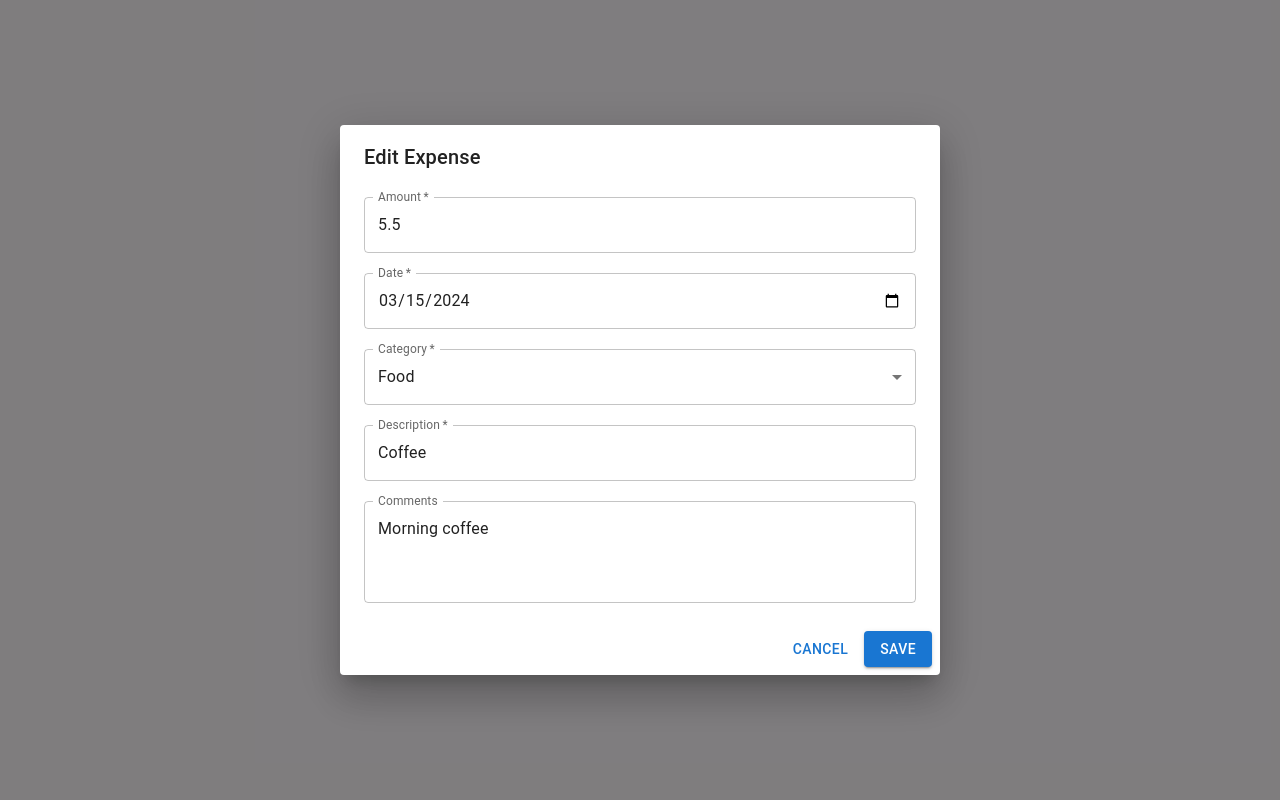
Test: EditExpenseDialog › should show validation error for empty description
Clear the field labelled "Description" at [640, 453], box [364,425,916,481]
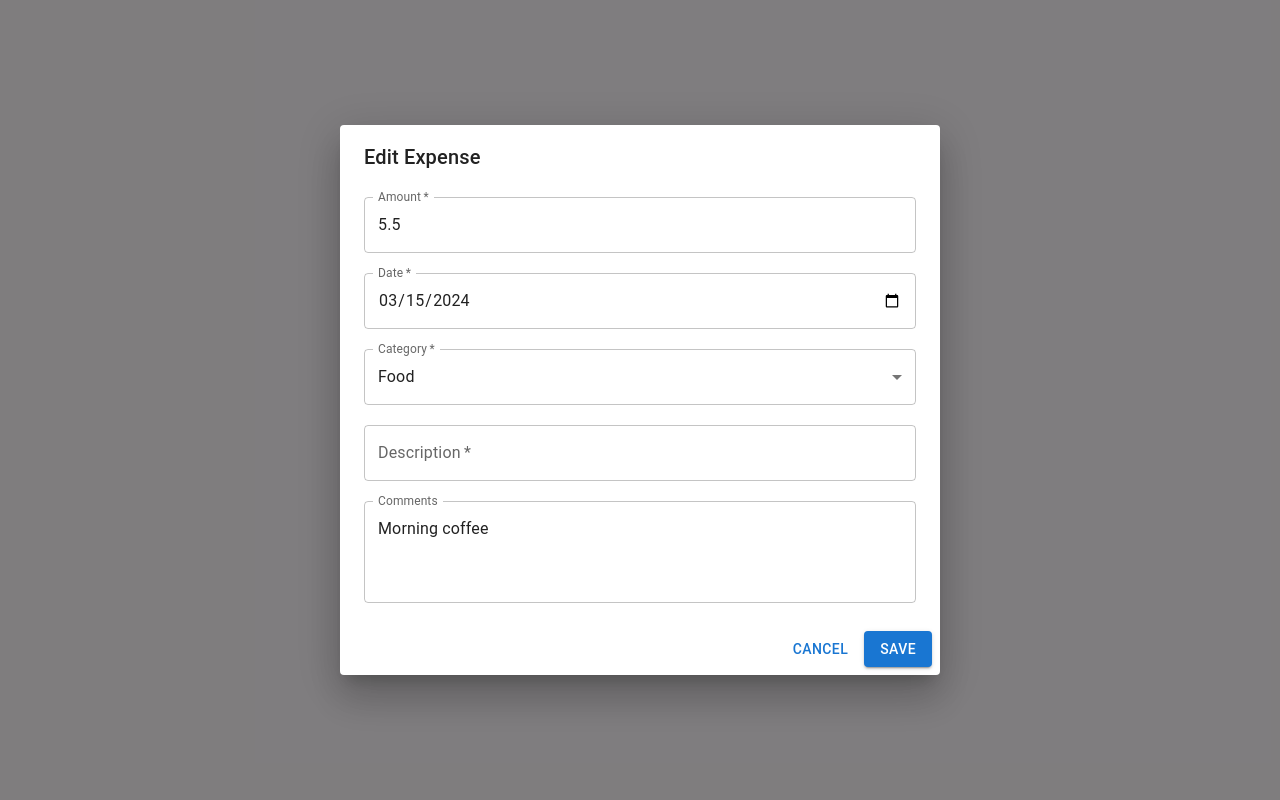
Click the button "Save" at [898, 649], box [864,631,932,667]
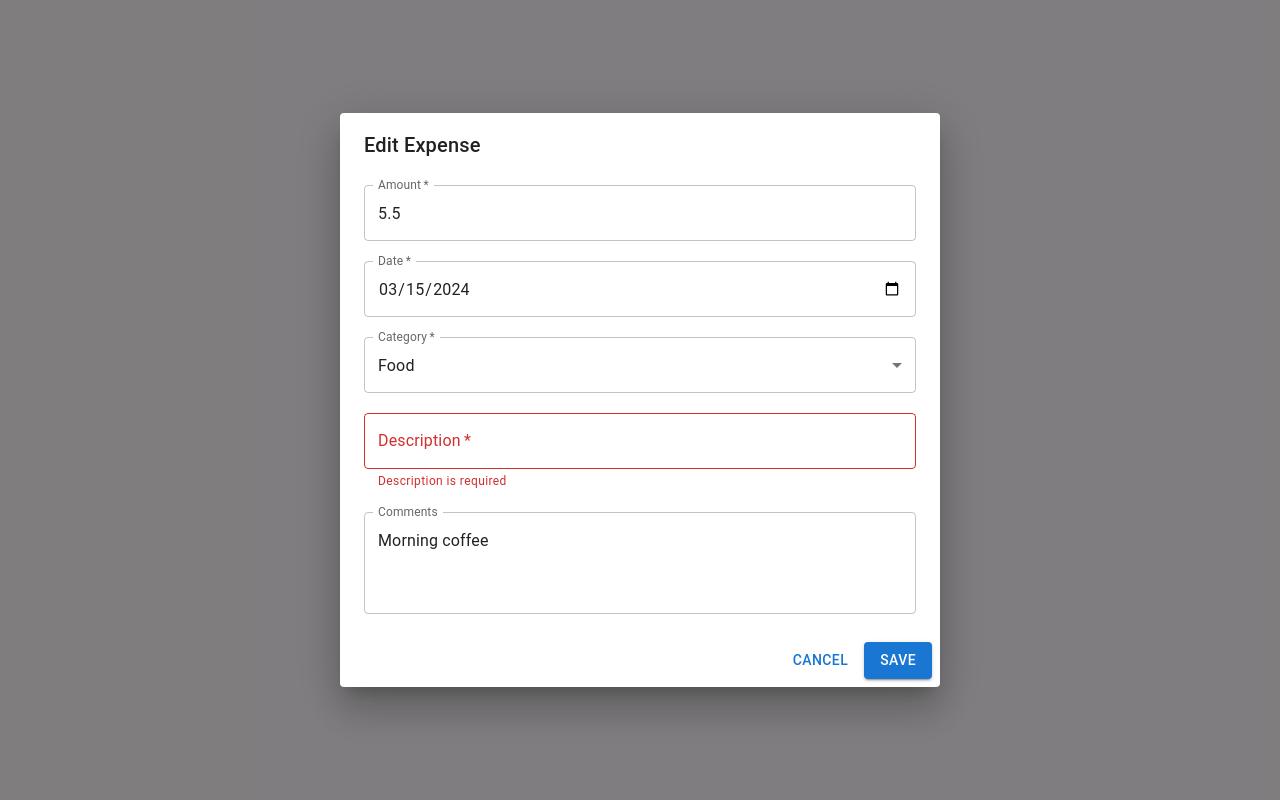
Result: the text "Description is required" is shown at [378,474,507,488]
